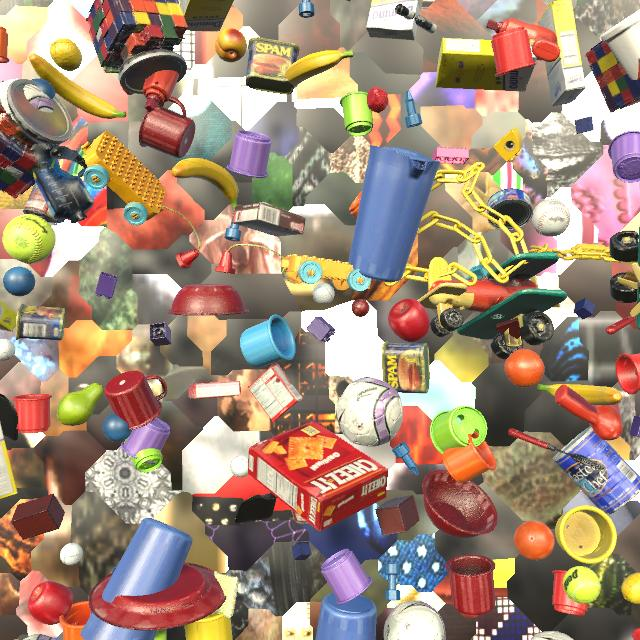ycb_002_master_chef_can: (552, 426, 640, 515)
ycb_003_cracker_box: (248, 420, 388, 531)
ycb_004_sugar_box: (436, 38, 537, 92), (538, 0, 586, 106), (366, 0, 423, 40), (180, 0, 234, 32), (0, 423, 18, 499), (0, 301, 17, 332)
ycb_005_tomato_soup_can: (23, 169, 69, 226), (291, 509, 308, 524)
ycb_007_tuna_fish_can: (487, 188, 533, 231)
ycb_008_pudding_box: (232, 202, 306, 237)
ycb_009_gelatin_box: (248, 363, 303, 422), (188, 381, 241, 399)
ycb_010_potted_meat_can: (245, 37, 300, 95), (381, 341, 430, 393), (15, 303, 65, 340)
ycb_011_banana: (29, 54, 127, 119), (171, 158, 238, 212), (285, 50, 353, 88), (537, 384, 622, 405)
ycb_012_strawberry: (367, 87, 389, 113)
ycb_013_apple: (28, 581, 73, 625), (388, 298, 430, 342)
ycb_014_lemon: (50, 38, 82, 71), (621, 572, 640, 604)
ycb_015_peach: (215, 28, 247, 62)
ycb_016_pear: (57, 383, 103, 426)
ycb_017_orange: (514, 520, 555, 560), (504, 349, 545, 387)
